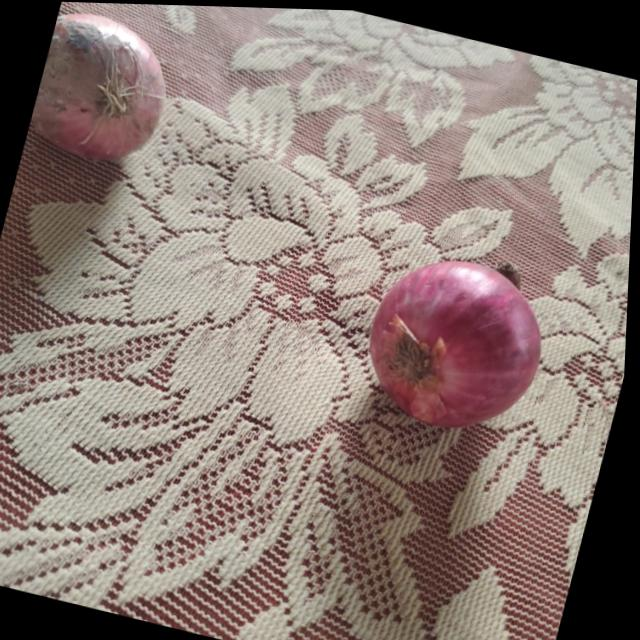onion: (357, 241, 559, 438), (26, 8, 176, 169)
